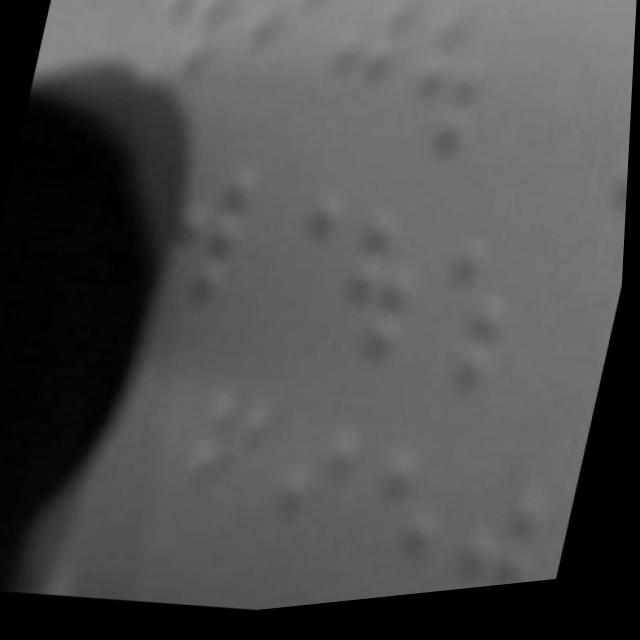braiile: (258, 404, 374, 587), (345, 434, 463, 610), (158, 153, 269, 339), (175, 364, 286, 549), (395, 8, 504, 183), (247, 175, 354, 351), (300, 0, 418, 157), (423, 242, 528, 414), (331, 209, 437, 377), (439, 476, 554, 602), (573, 67, 635, 224)
